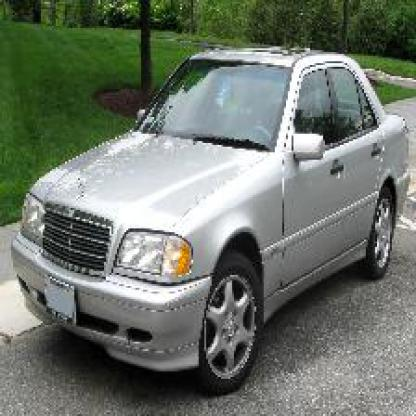not_emergency: (21, 44, 414, 368)
